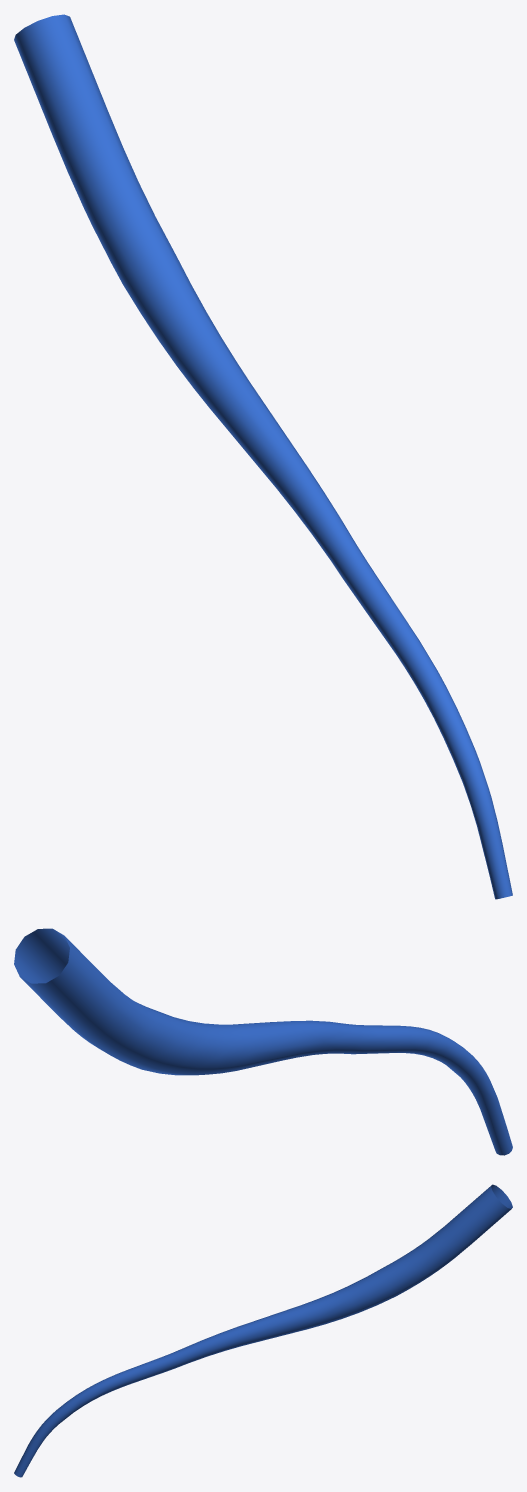
File: circulatorio-occipital-sinus.glb
The picture shows the model from 3 angles, top to bottom: view 1: azimuth 30°, elevation 25°; view 2: azimuth 150°, elevation 25°; view 3: azimuth 270°, elevation 25°; orthographic projection. The views are drawn at different scales.
Visible parts, largest first — view 1: Occipital sinus; view 2: Occipital sinus; view 3: Occipital sinus.
Boxes of the visible parts, bbox=[...] form: Occipital sinus: bbox=[14, 14, 512, 899]; Occipital sinus: bbox=[14, 928, 512, 1155]; Occipital sinus: bbox=[14, 1184, 512, 1477].
Bounding box in the file's own units: 0.002 × 0.0201 × 0.0314.
